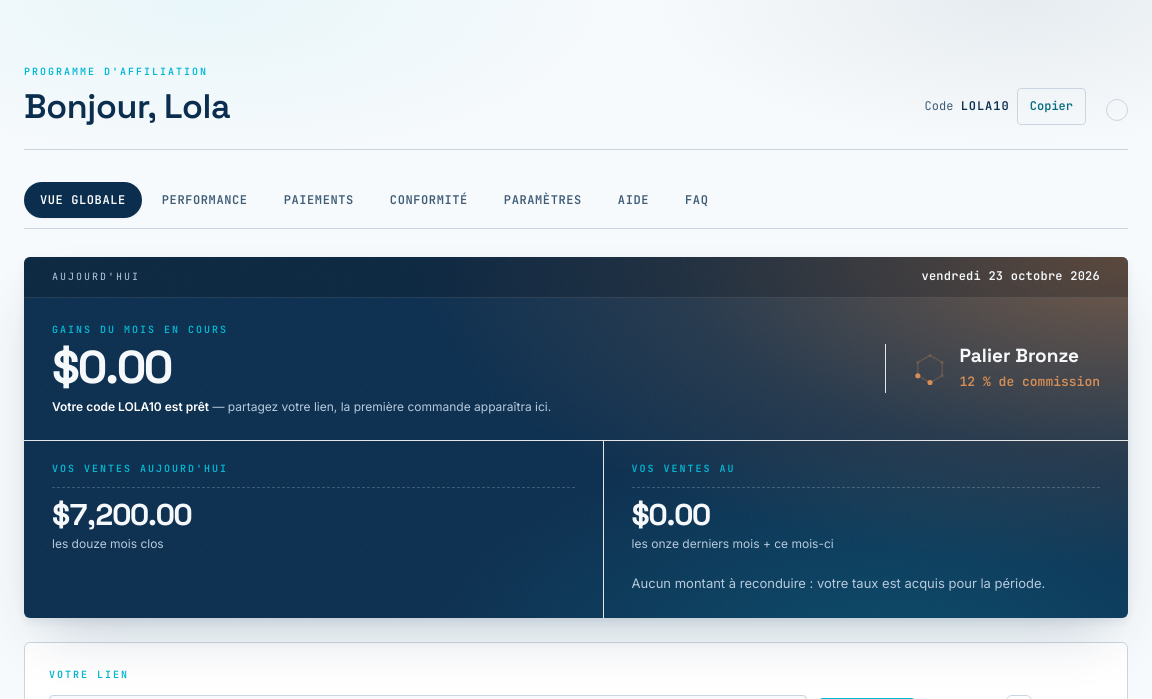
Scenario: le flux d'activité › et la quantité de jetons reste lisible, AVEC sa devise
Click the button "Paiements".
click(319, 200)  # box [268,182,370,218]
(page scrolled)
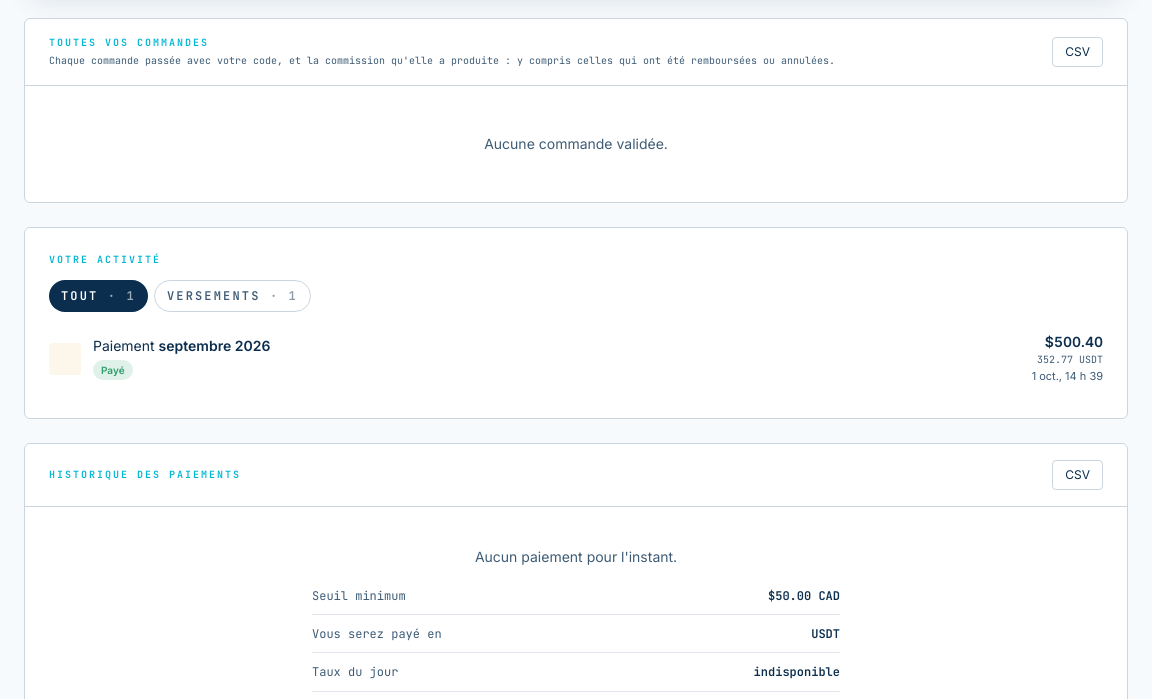
Now the text "$500.40" is shown, box [1045,334,1103,350]
Now the text "352.77 USDT" is shown, box [1032,352,1103,368]
